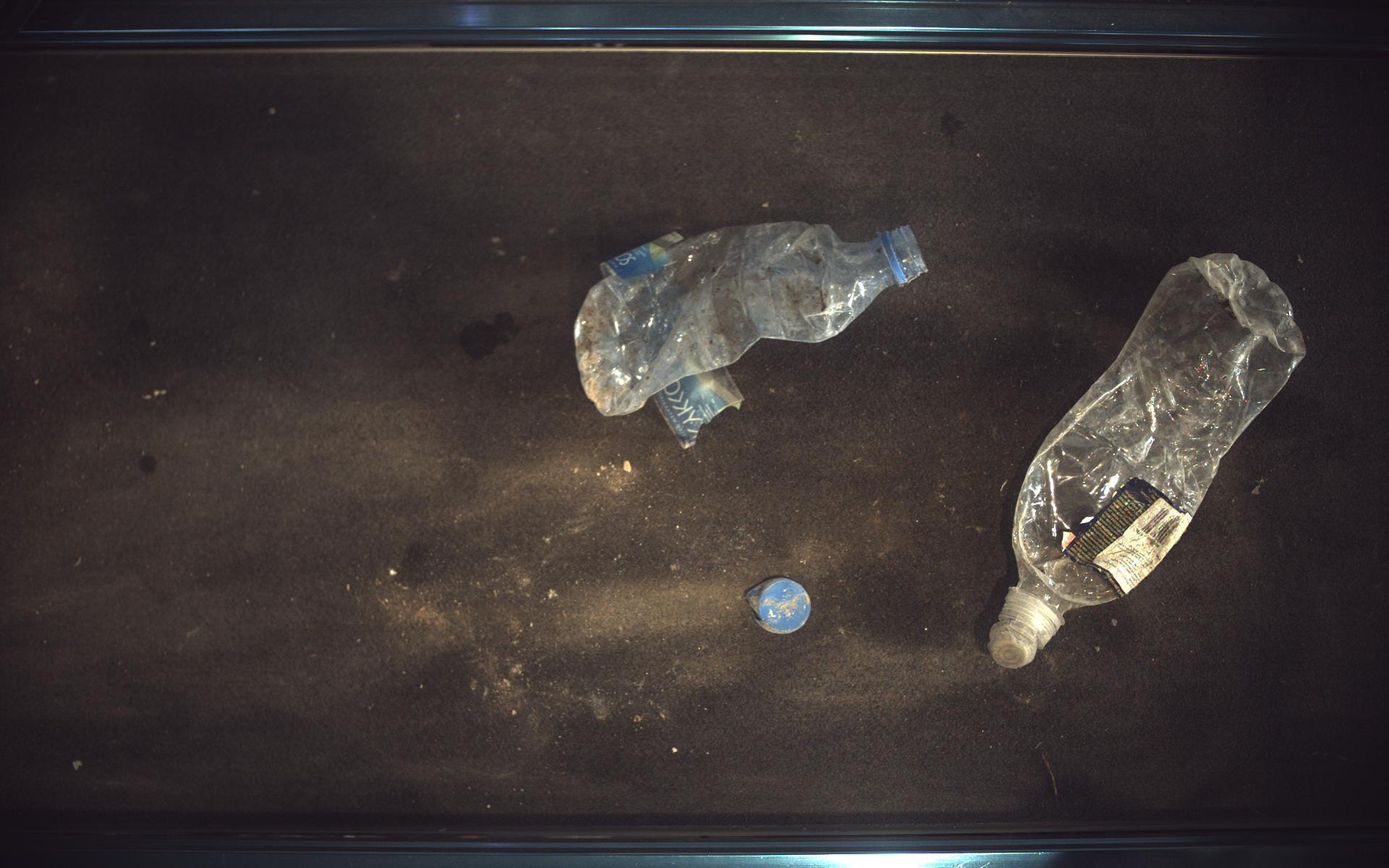general_w: (991, 253, 1308, 670), (575, 221, 928, 448), (747, 577, 812, 635)
